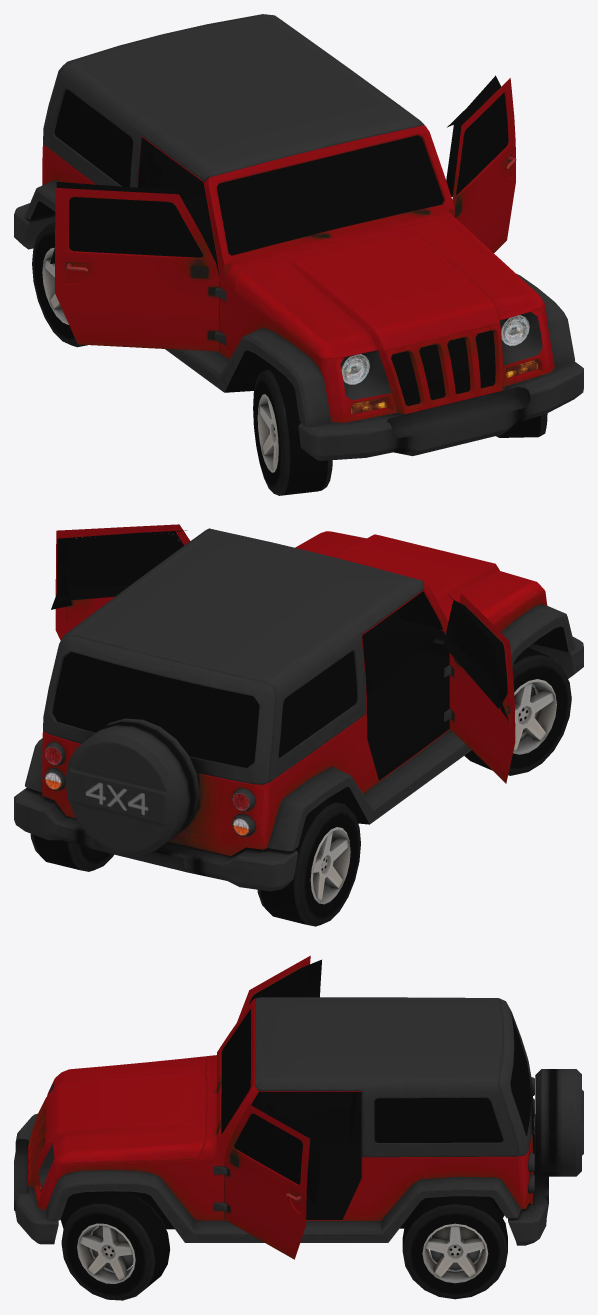
Rendered from 4x4-jeep-2bf209.glb.
3 views of the same model, one above another, from view 1: azimuth 30°, elevation 25°; view 2: azimuth 150°, elevation 25°; view 3: azimuth 270°, elevation 25° (orthographic). The views are drawn at different scales.
Visible parts, largest first — view 1: body, wheel-front-right, wheel-back-right, wheel-front-left; view 2: body, wheel-back-right, wheel-front-right, wheel-back-left; view 3: body, wheel-front-left, wheel-back-left.
Part boxes in pixels (box(x1,y1,x2,y2)): body: box(14, 14, 583, 460); wheel-front-right: box(253, 369, 332, 495); wheel-back-right: box(32, 223, 87, 347); wheel-front-left: box(496, 413, 547, 437); body: box(14, 524, 583, 891); wheel-back-right: box(257, 799, 360, 926); wheel-front-right: box(464, 647, 571, 775); wheel-back-left: box(30, 834, 113, 871); body: box(14, 955, 583, 1259); wheel-front-left: box(61, 1191, 170, 1300); wheel-back-left: box(402, 1196, 507, 1299).
Bounding box in the file's own units: 2.75 × 1.45 × 3.57.
Materials: 4 (3 with a texture image).
